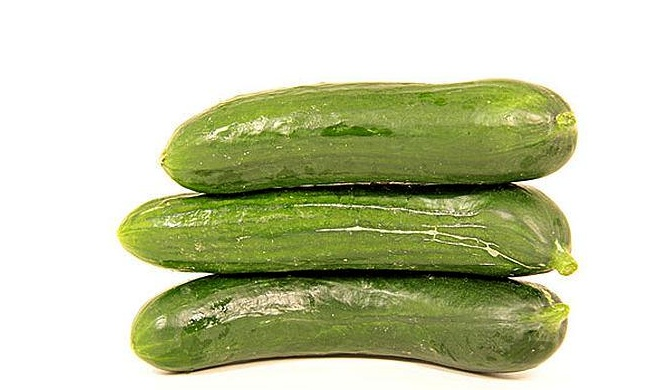cucumber: (165, 70, 578, 192), (131, 279, 573, 376), (114, 185, 569, 273)
